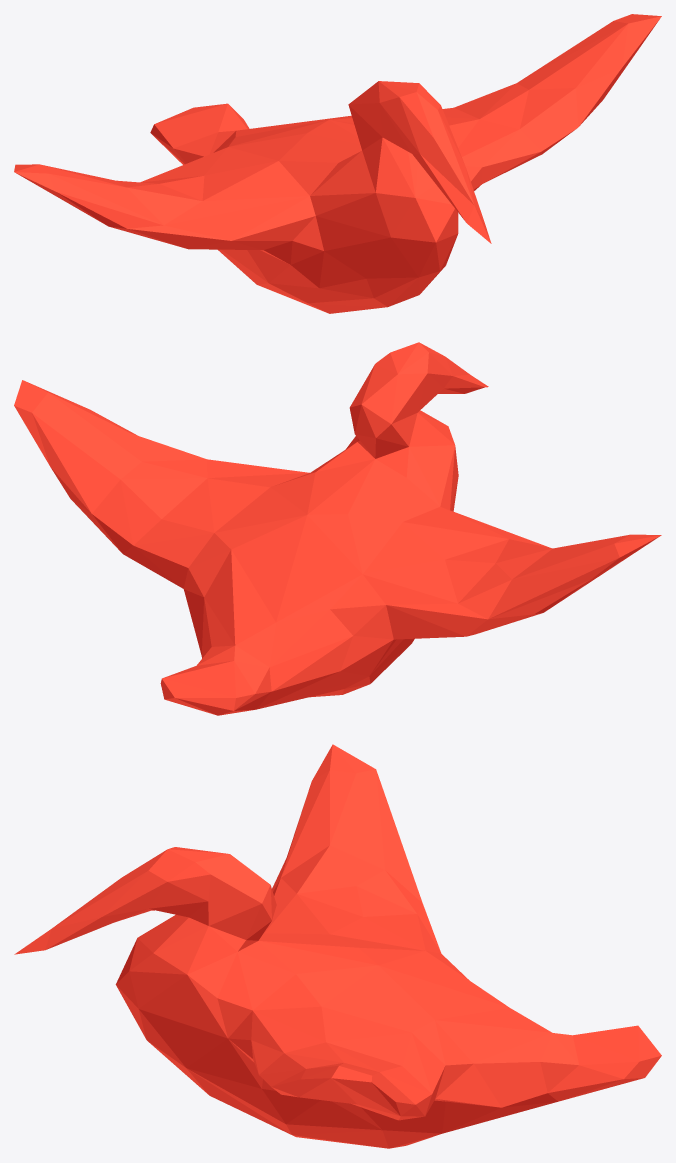
File: Pelican(3).fbx
3 renders of one model, top to bottom at view 1: azimuth 30°, elevation 25°; view 2: azimuth 150°, elevation 25°; view 3: azimuth 270°, elevation 25°, orthographic. The views are drawn at different scales.
Parts seen in each view (by area): view 1: Pelican; view 2: Pelican; view 3: Pelican.
Boxes of the visible parts, x1=… form: Pelican: x1=14, y1=14, x2=661, y2=313; Pelican: x1=14, y1=342, x2=661, y2=715; Pelican: x1=14, y1=744, x2=661, y2=1148.
Bounding box in the file's own units: 469 × 188 × 387.
